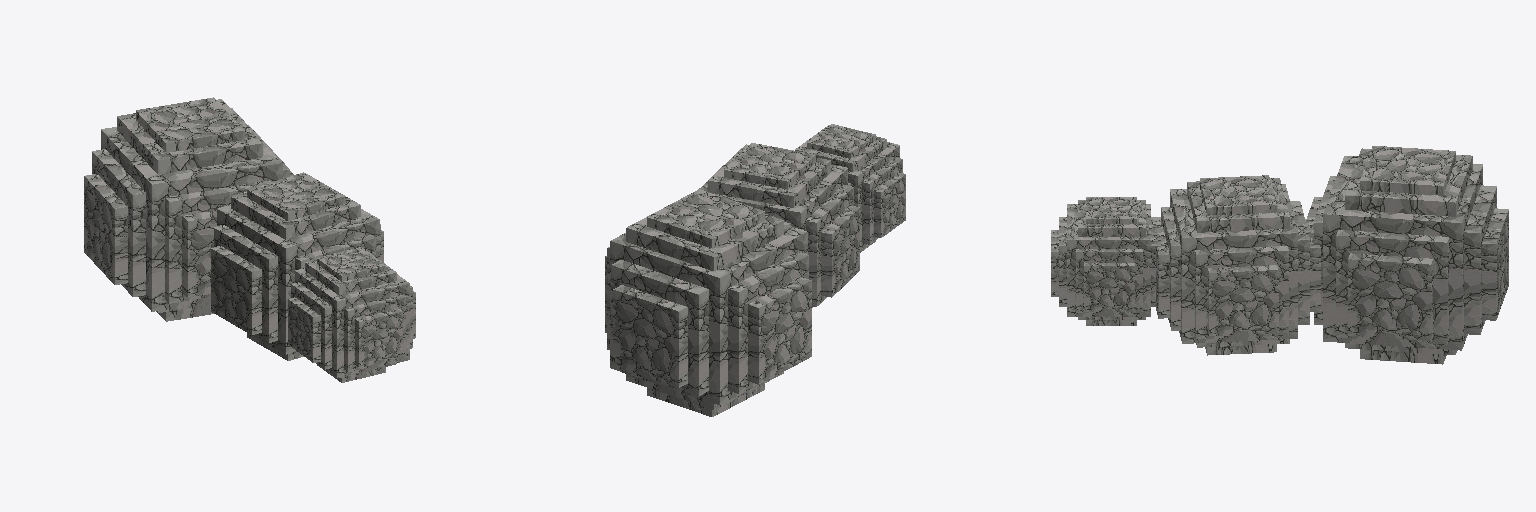
3 views of the same model, side by side, from view 1: azimuth 30°, elevation 25°; view 2: azimuth 150°, elevation 25°; view 3: azimuth 270°, elevation 25° (orthographic).
Visible parts, largest first — view 1: Parte4; view 2: Parte4; view 3: Parte4.
Part boxes in pixels (x1,y1,x2,y2): Parte4: (84,97,415,382); Parte4: (605,124,905,416); Parte4: (1051,146,1508,364).
Bounding box in the file's own units: 4.3 × 3.97 × 9.23.
1 materials, 1 textured.